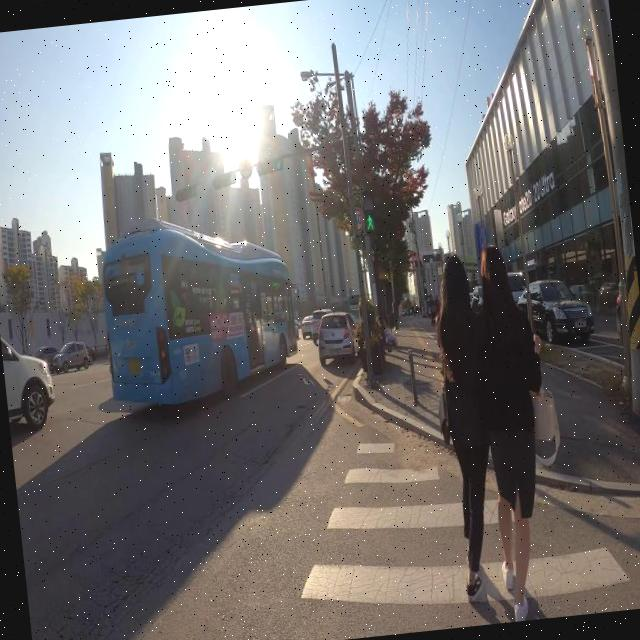crosswalk: (285, 435, 640, 640)
